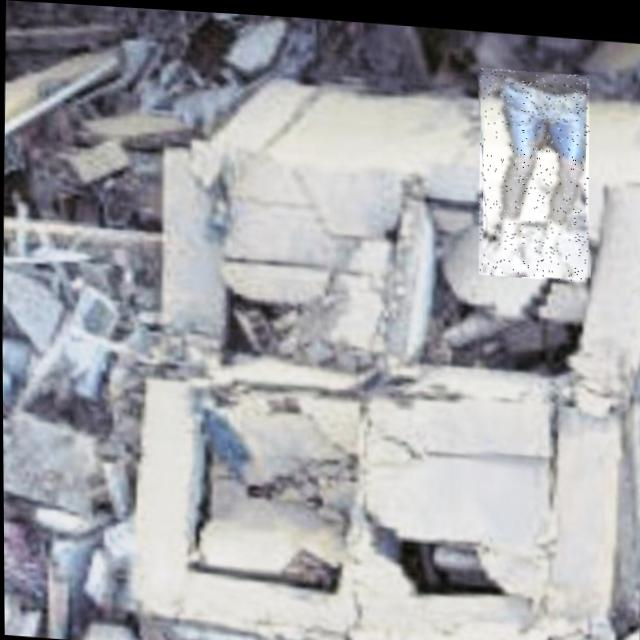Person in Rubble: (476, 61, 590, 275)
